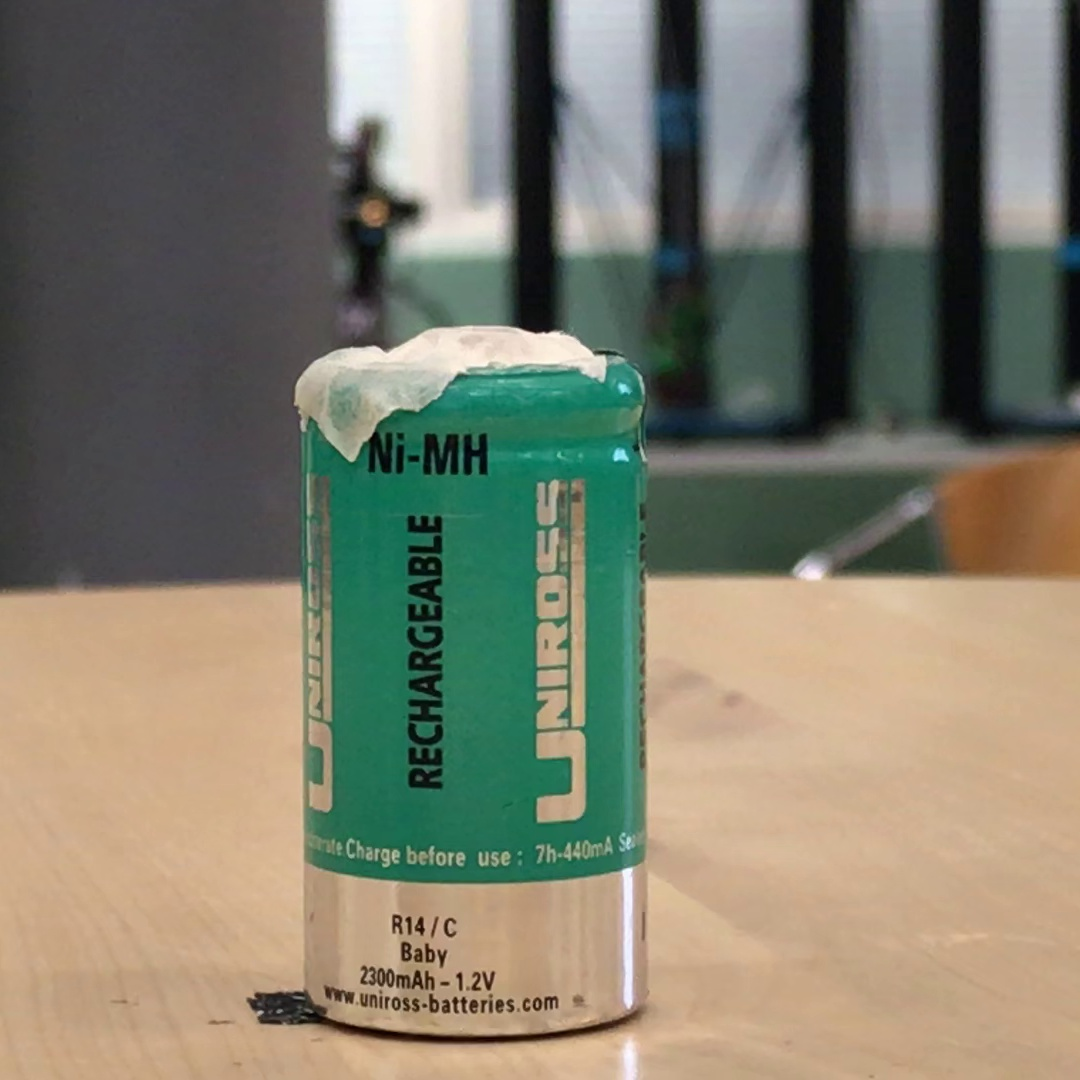keyword: (446, 961, 505, 1001)
